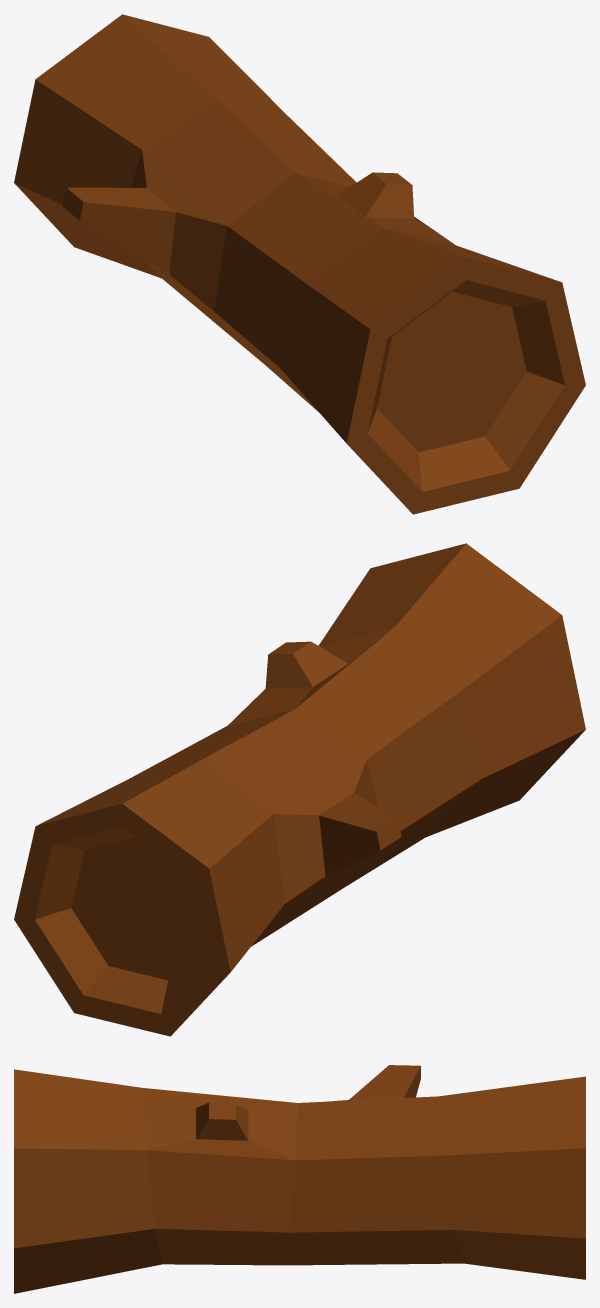
File: TRONCOcaido.fbx
The picture shows the model from 3 angles, top to bottom: view 1: azimuth 30°, elevation 25°; view 2: azimuth 150°, elevation 25°; view 3: azimuth 270°, elevation 25°; orthographic projection. The views are drawn at different scales.
Parts seen in each view (by area): view 1: Cilindro; view 2: Cilindro; view 3: Cilindro.
Part boxes in pixels (x1,y1,x2,y2): Cilindro: (14,14,585,514); Cilindro: (14,543,585,1036); Cilindro: (14,1065,585,1293).
Size of the model in its own units: 269 by 224 by 572.
